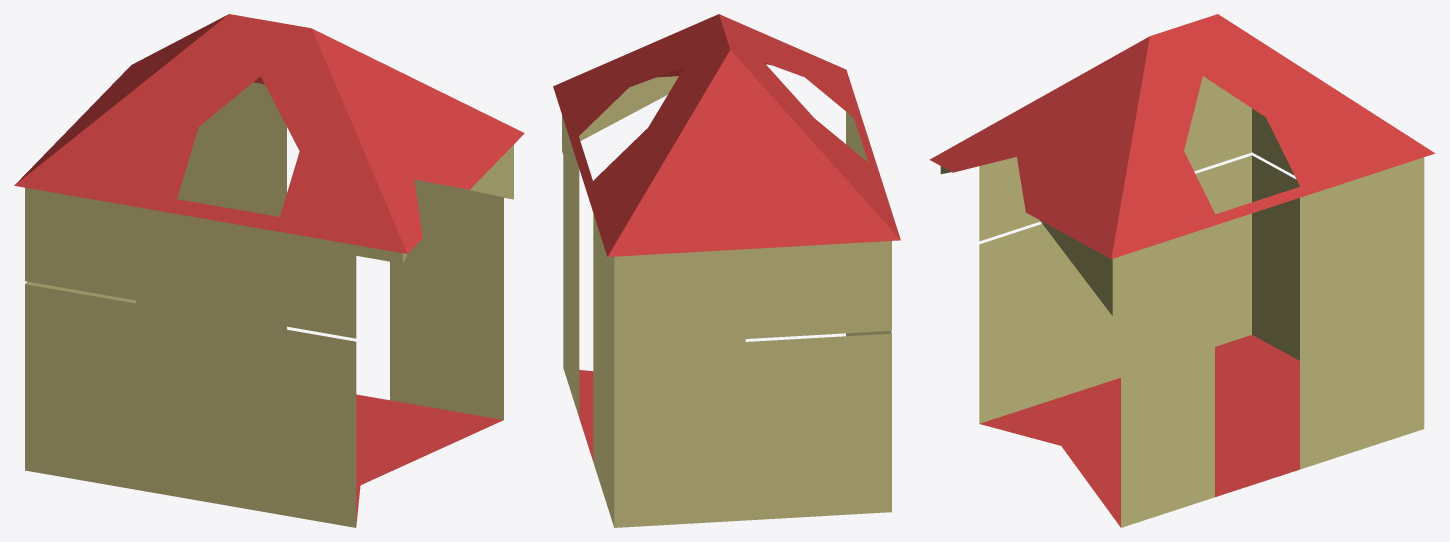
3 renders of one model, left to right at view 1: azimuth 30°, elevation 25°; view 2: azimuth 150°, elevation 25°; view 3: azimuth 270°, elevation 25°, orthographic. The views are drawn at different scales.
Size of the model in its own units: 15.08 by 15.7 by 13.98.
